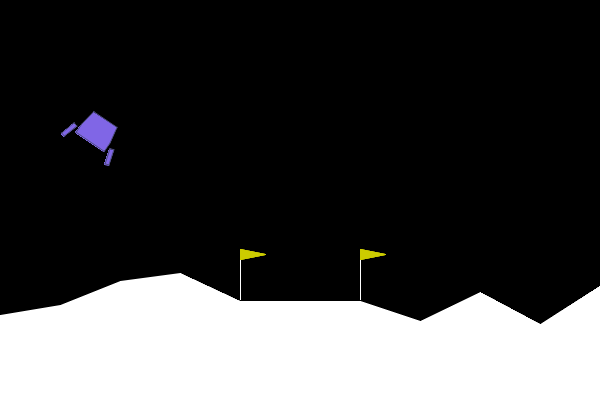lander: (59, 101, 131, 168)
